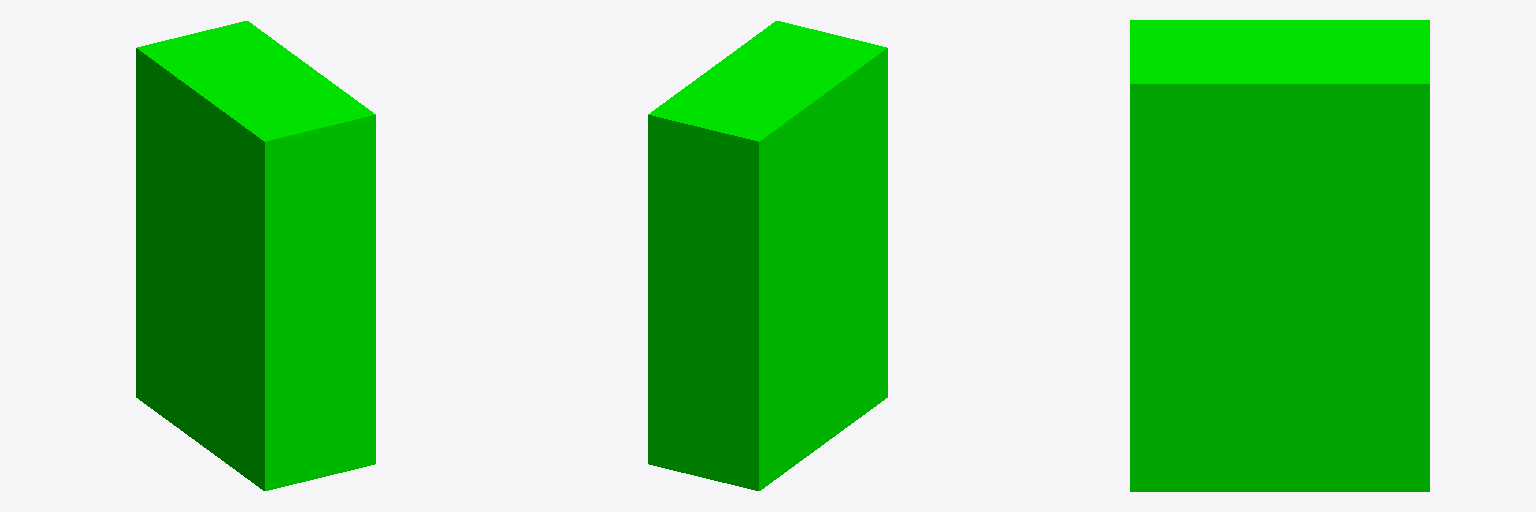
URDF robot description (box):
<?xml version="1.0" encoding="utf-8" ?>
<robot name="box">
    <link name="base_link">
        <visual>
            <geometry>
                <box size="1 2 3"></box>
            </geometry>
            <material name="green">
                <color rgba="0 1 0 0.5"></color>
            </material>
        </visual>
    </link>
</robot>

--- Render facts (derived) ---
Views: 3 orthographic renders of the robot side by side, from view 1: azimuth 30°, elevation 25°; view 2: azimuth 150°, elevation 25°; view 3: azimuth 270°, elevation 25°.
Robot: box — 1 links, 0 joints (none); root link base_link; default pose: all joints at 0.
Links seen in each view (by area): view 1: base_link; view 2: base_link; view 3: base_link.
Link boxes in pixels (left/top/right/bottom): base_link: left=136, top=21, right=375, bottom=490; base_link: left=648, top=21, right=887, bottom=490; base_link: left=1130, top=20, right=1429, bottom=491.
Size in the robot's own frame: 1 by 2 by 3 metres.
Geometry: primitives only (box / cylinder / sphere), no mesh files.
